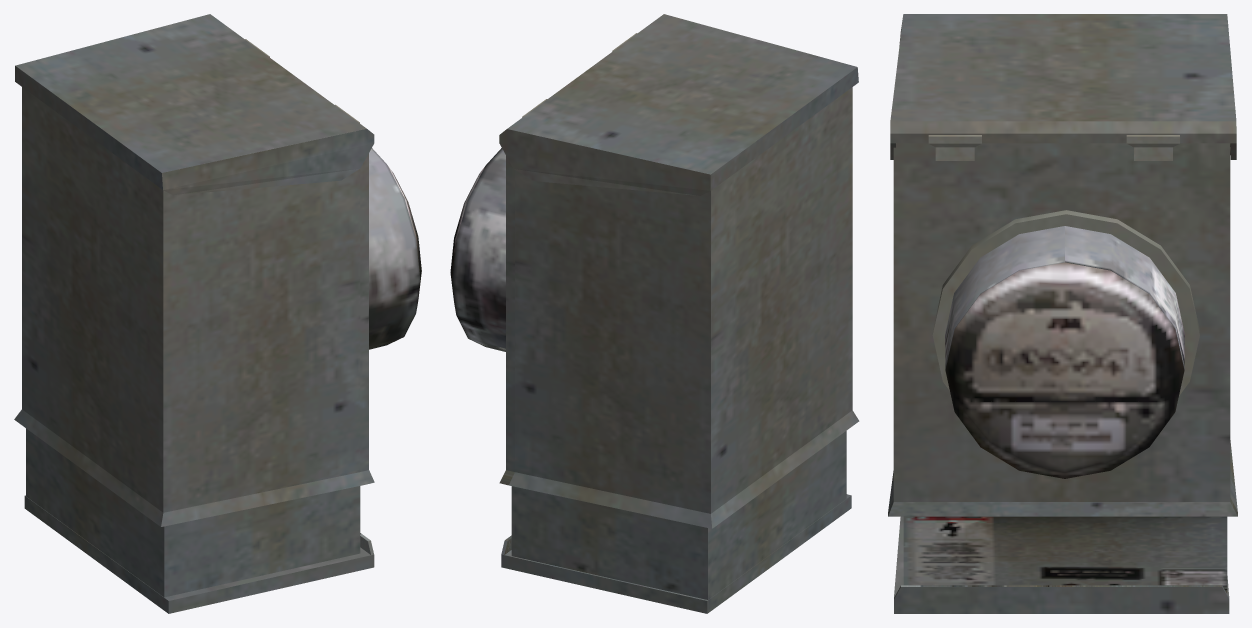
File: powerbox02d.glb
The picture shows the model from 3 angles, left to right: view 1: azimuth 30°, elevation 25°; view 2: azimuth 150°, elevation 25°; view 3: azimuth 270°, elevation 25°; orthographic projection. The views are drawn at different scales.
Visible parts, largest first — view 1: powerbox02d; view 2: powerbox02d; view 3: powerbox02d.
Part boxes in pixels (x1=…): powerbox02d: x1=14, y1=14, x2=421, y2=613; powerbox02d: x1=450, y1=14, x2=859, y2=613; powerbox02d: x1=888, y1=14, x2=1237, y2=613.
Bounding box in the file's own units: 0.1827 × 0.2678 × 0.1739.
Materials: 1 (1 with a texture image).
